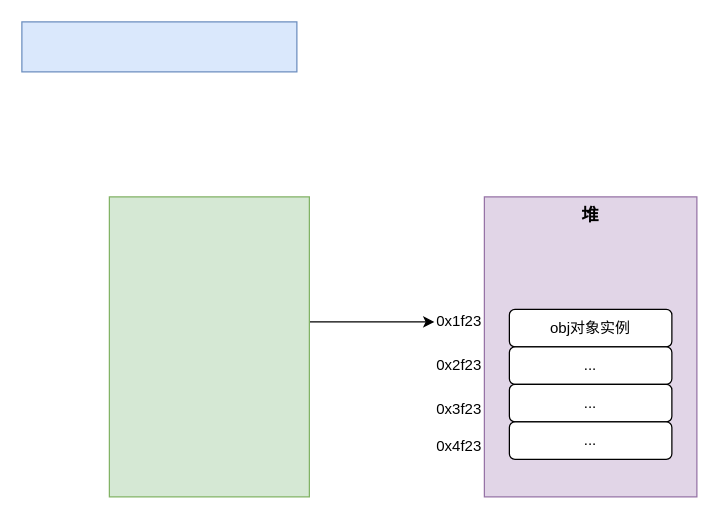
Image size: 719x519. Some labels were removed from this diagram. Each missing label, with the centre of its shape:
"HotSpot虚拟机的堆栈关系" belongs at [159,46].
"栈 Object obj = new Object()" belongs at [208,346].
